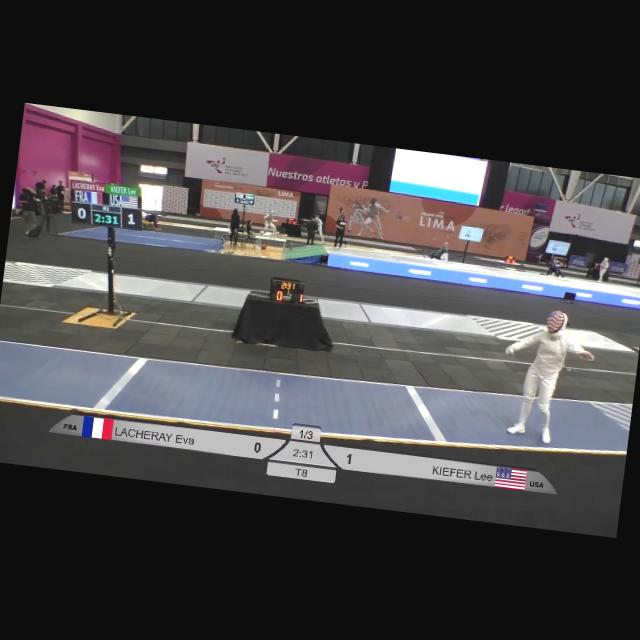blade: (503, 343, 598, 366)
